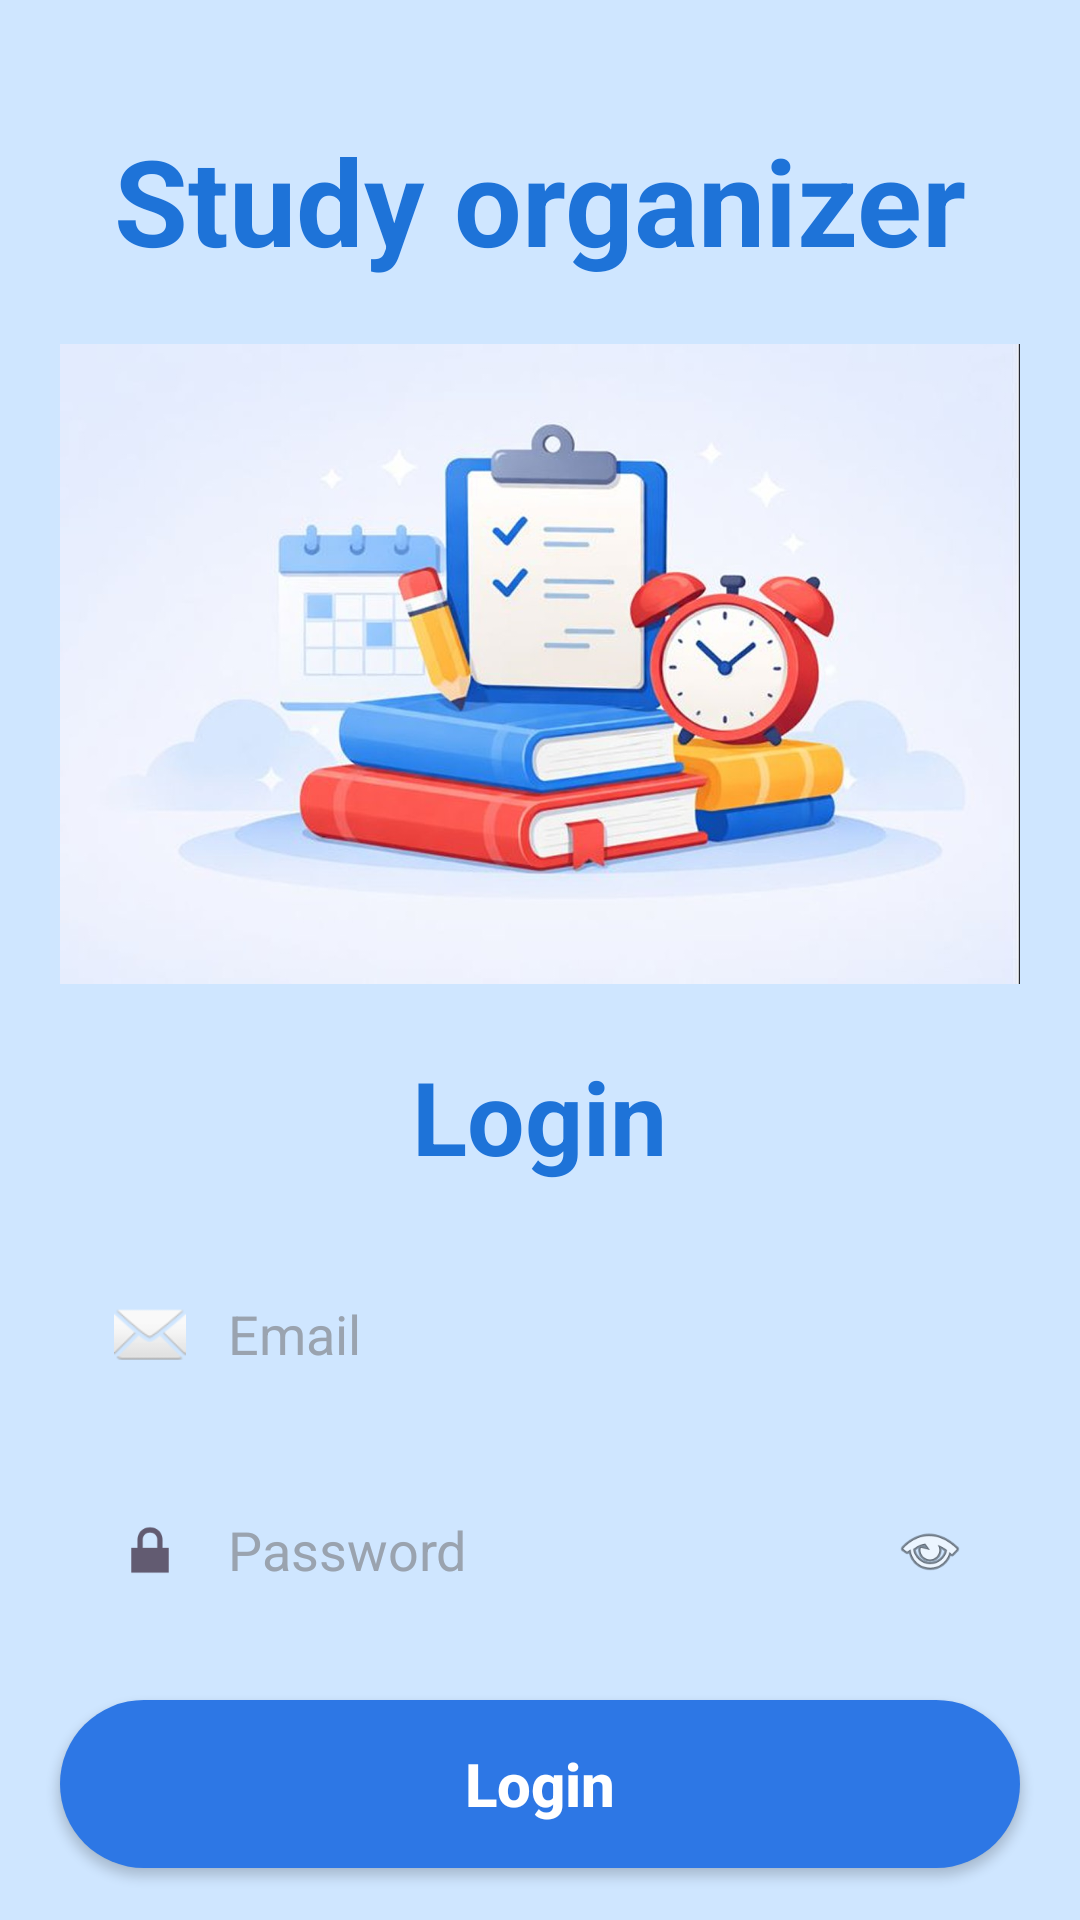

Locate icon controls on the screen. Image size 1080 x 1920, boxes as (x1, y1, x2, y2).
lock: (131, 1527, 169, 1573)
view: (901, 1533, 959, 1570)
